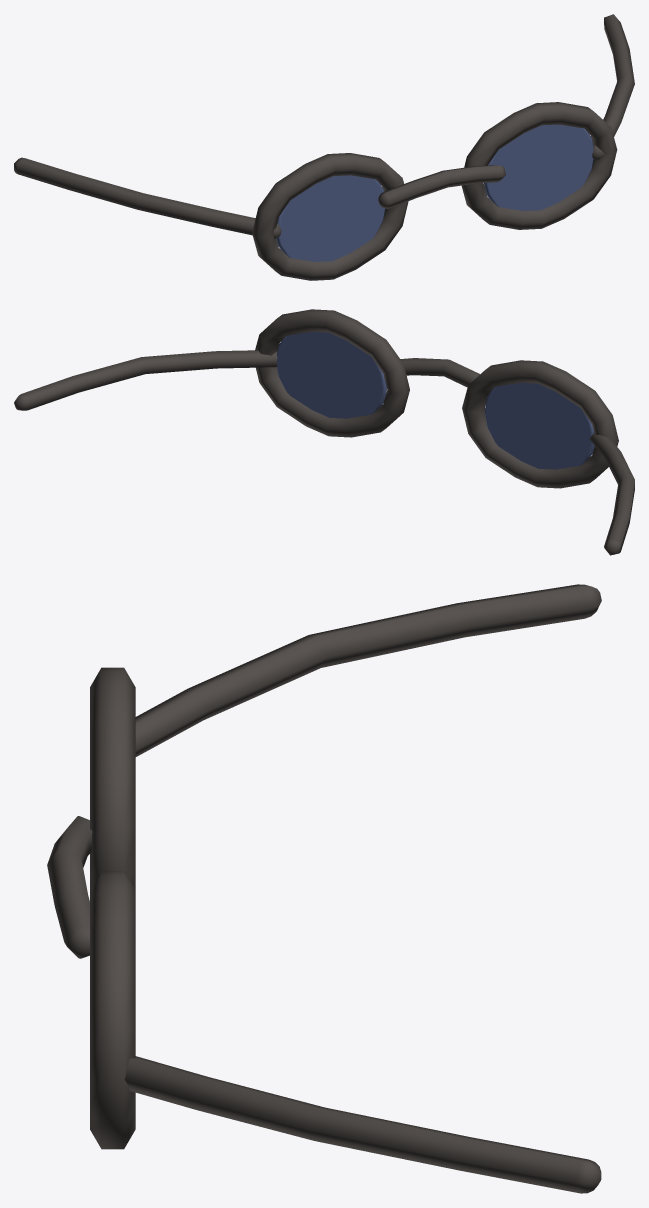
Rendered from butterfly_shades.glb.
3 views of the same model, one above another, from view 1: azimuth 30°, elevation 25°; view 2: azimuth 150°, elevation 25°; view 3: azimuth 270°, elevation 25° (orthographic). The views are drawn at different scales.
Parts seen in each view (by area): view 1: butterfly_shades_Head; view 2: butterfly_shades_Head; view 3: butterfly_shades_Head.
Boxes of the visible parts, x1=… form: butterfly_shades_Head: x1=14, y1=14, x2=634, y2=280; butterfly_shades_Head: x1=14, y1=309, x2=634, y2=555; butterfly_shades_Head: x1=47, y1=584, x2=601, y2=1193.
Bounding box in the file's own units: 0.674 × 0.1296 × 0.2681.
